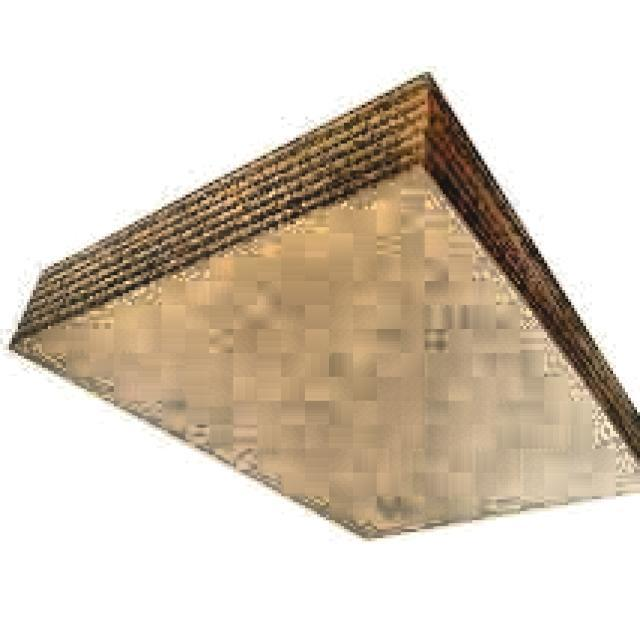cardboard: (6, 71, 640, 548)
